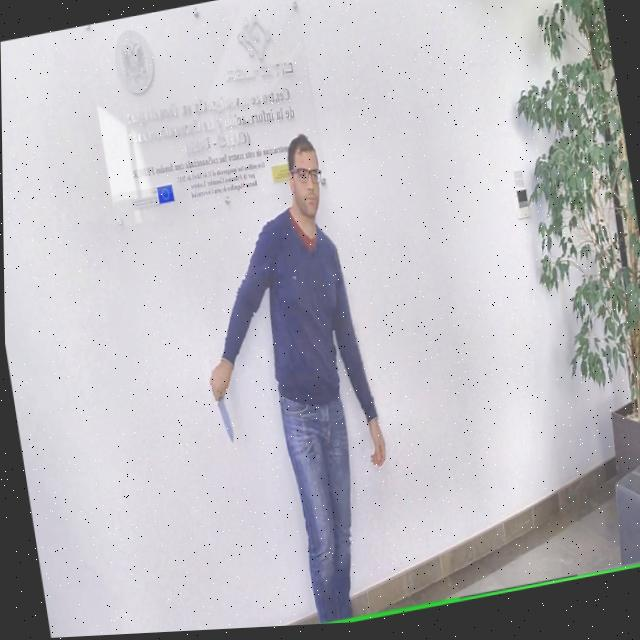knife: (215, 398, 234, 449)
